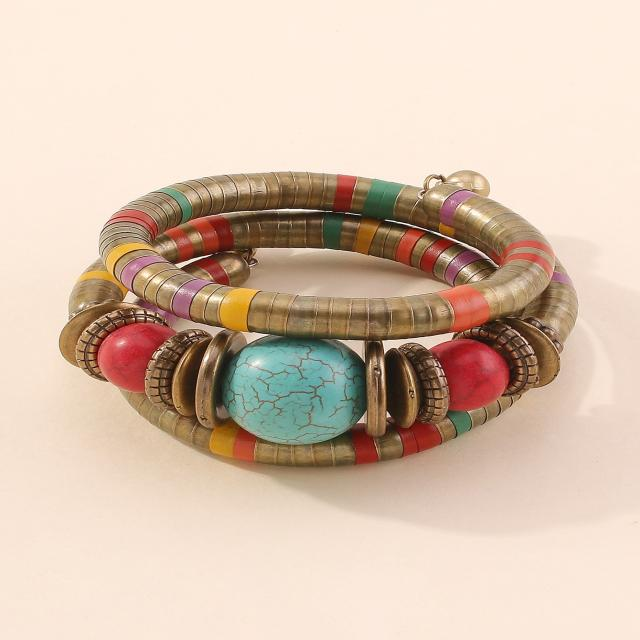bracelet: (34, 91, 640, 492)
